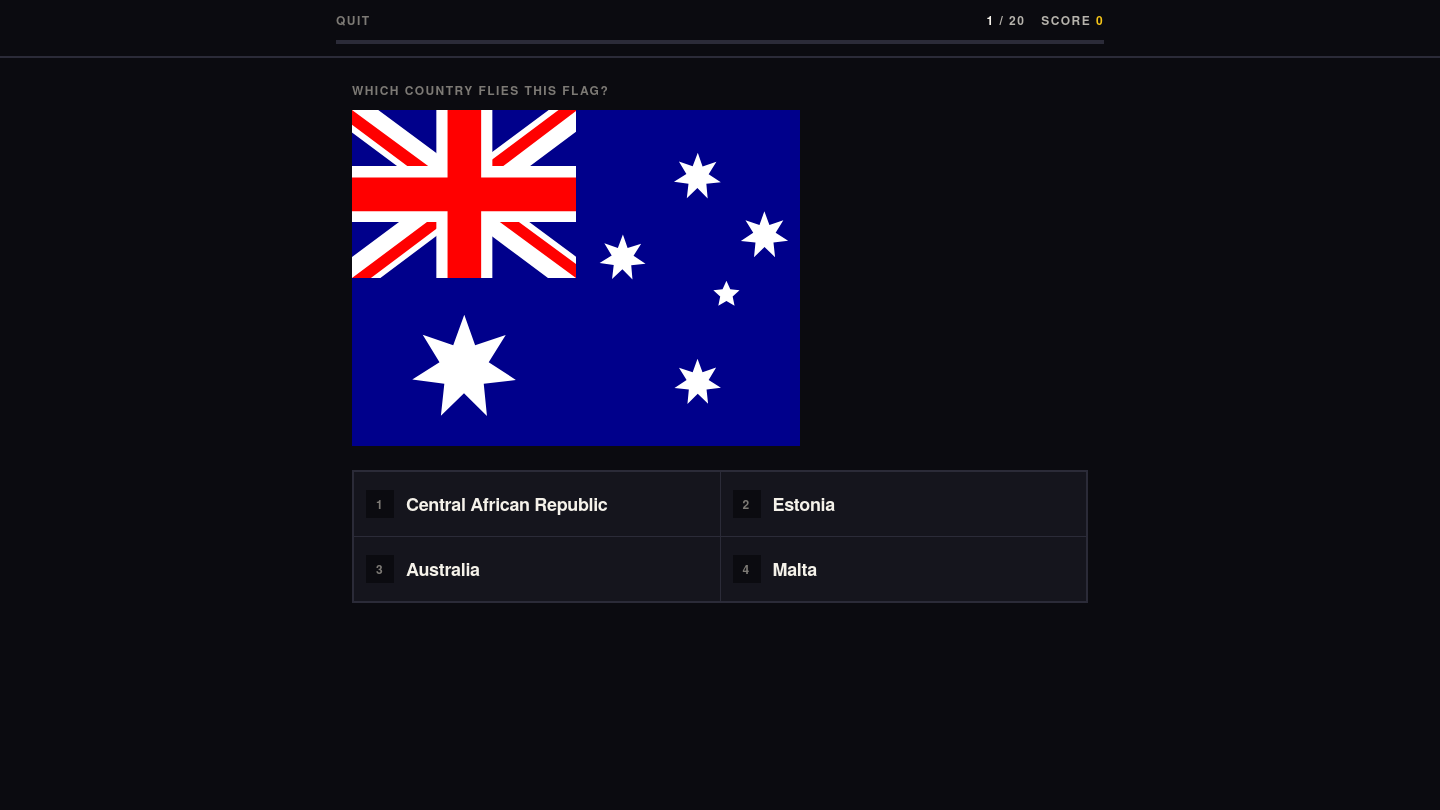
Test: PlayScreen — flag → country › reveals the right answer when the player gets it wrong (locked decision 2)
Click the button "1 Central African Republic" at (537, 504), box [354, 472, 720, 536]
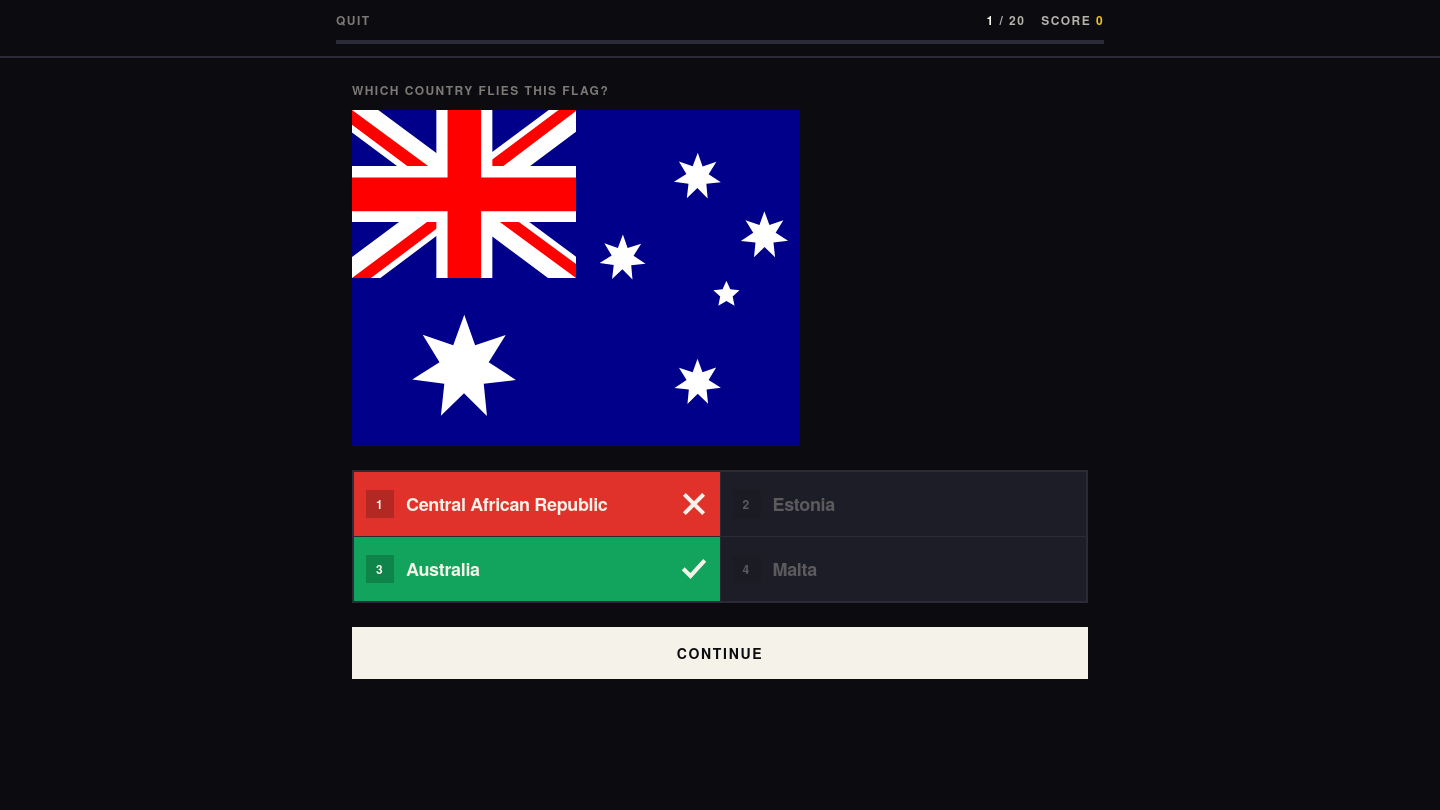
Expected: the picture named "Incorrect" is shown, [680, 490, 708, 518]
Expected: the picture named "Correct" is shown, [680, 555, 708, 583]
